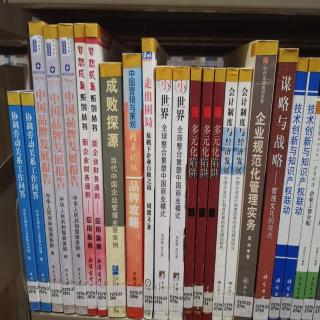book-spine: (230, 39, 278, 320), (252, 48, 298, 320), (25, 19, 64, 317), (276, 57, 320, 320), (267, 57, 309, 320), (43, 24, 76, 317), (219, 68, 253, 320), (59, 22, 88, 317), (6, 89, 41, 309), (73, 23, 98, 317), (98, 63, 126, 317), (21, 91, 52, 312), (289, 99, 320, 320), (213, 69, 239, 320), (86, 24, 108, 318), (190, 66, 215, 319), (202, 68, 226, 320), (151, 66, 174, 319), (168, 64, 189, 320), (122, 54, 142, 320), (182, 66, 202, 319), (142, 37, 156, 320)
